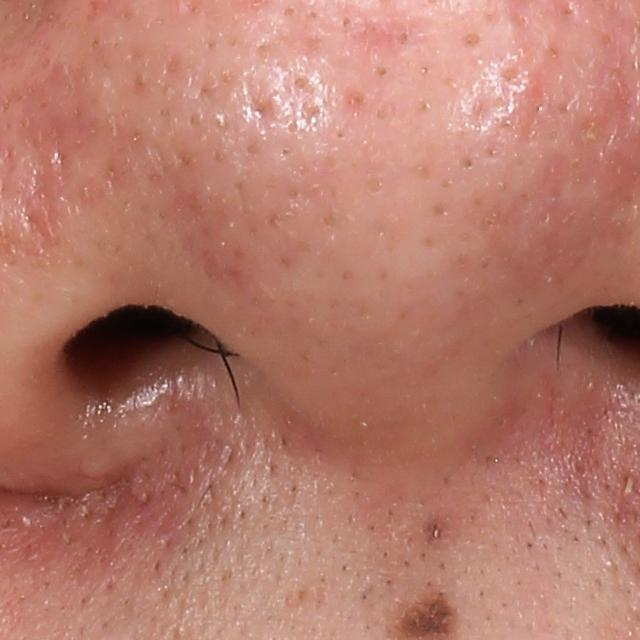nevus: (420, 507, 461, 548)
